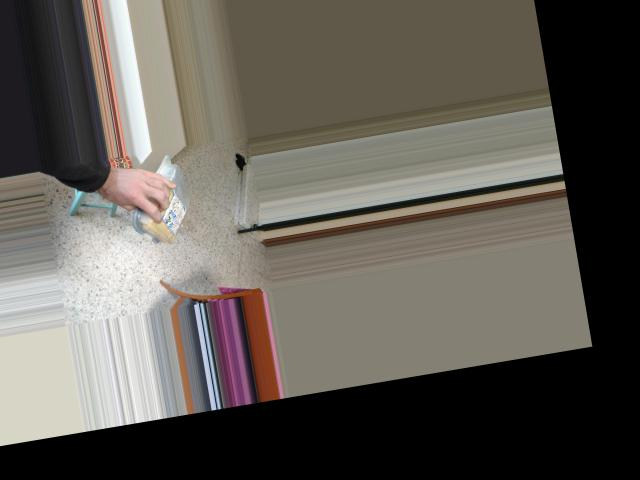cheese: (137, 158, 190, 255)
